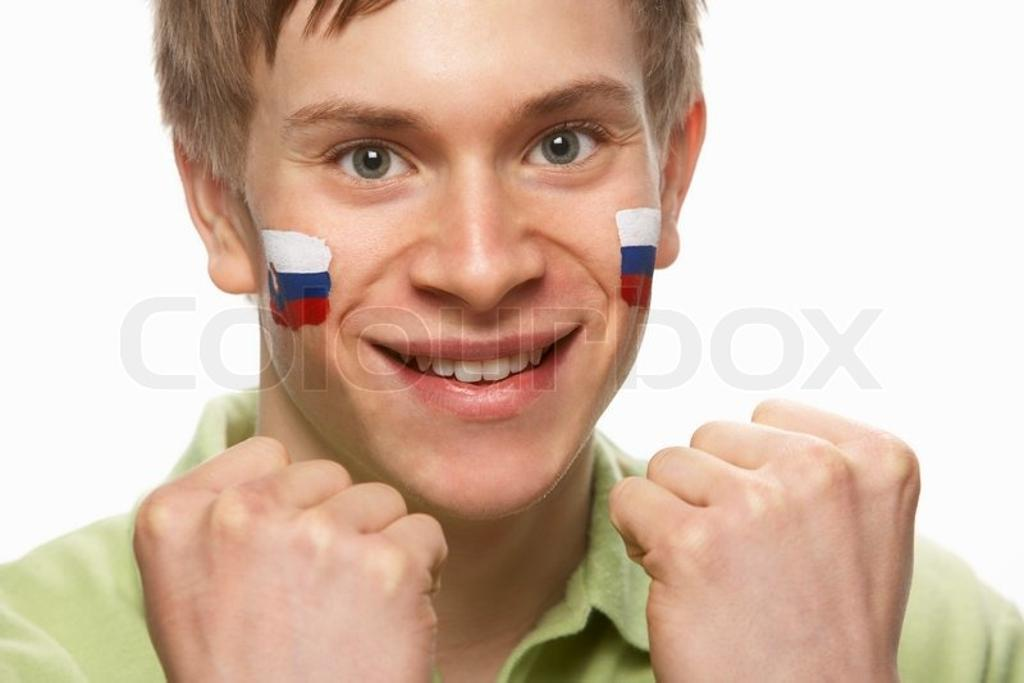face: (244, 24, 666, 508)
